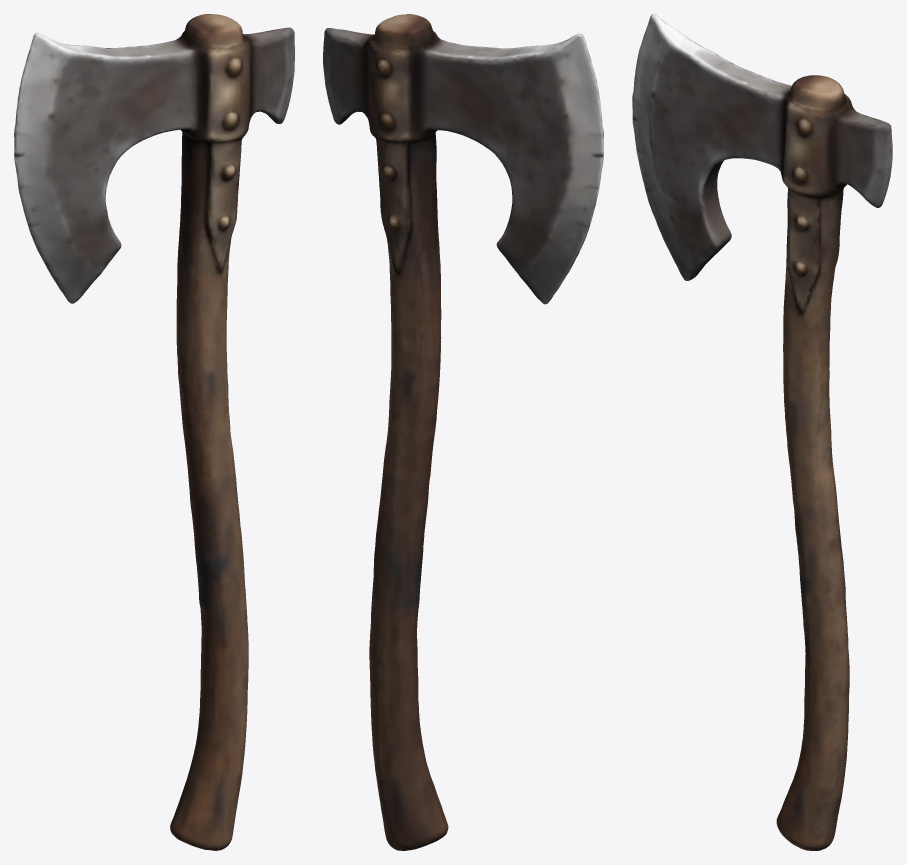
3 views of the same model, side by side, from view 1: azimuth 30°, elevation 25°; view 2: azimuth 150°, elevation 25°; view 3: azimuth 330°, elevation 25° (orthographic). The views are drawn at different scales.
Parts seen in each view (by area): view 1: Mesh_0; view 2: Mesh_0; view 3: Mesh_0.
Boxes of the visible parts, x1,y1,x2,y2 form: Mesh_0: [14, 14, 294, 850]; Mesh_0: [323, 14, 603, 850]; Mesh_0: [632, 14, 892, 850].
Bounding box in the file's own units: 0.3049 × 0.89 × 0.0744.
Materials: 1 (1 with a texture image).
